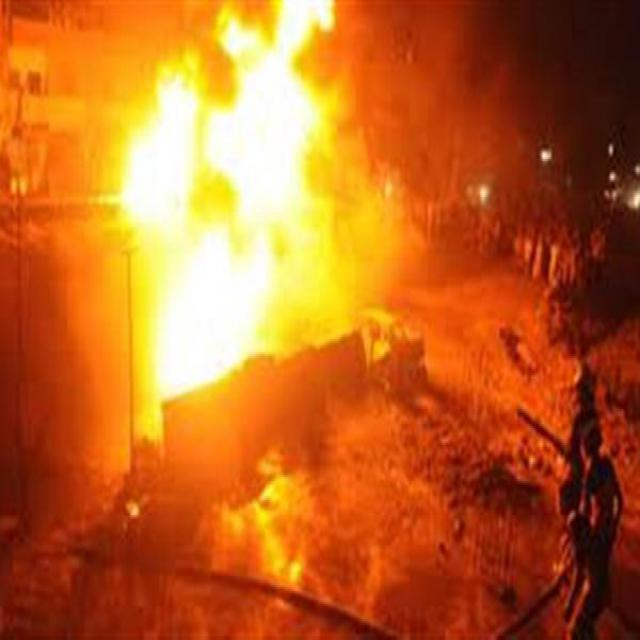Fire: (124, 21, 330, 388)
